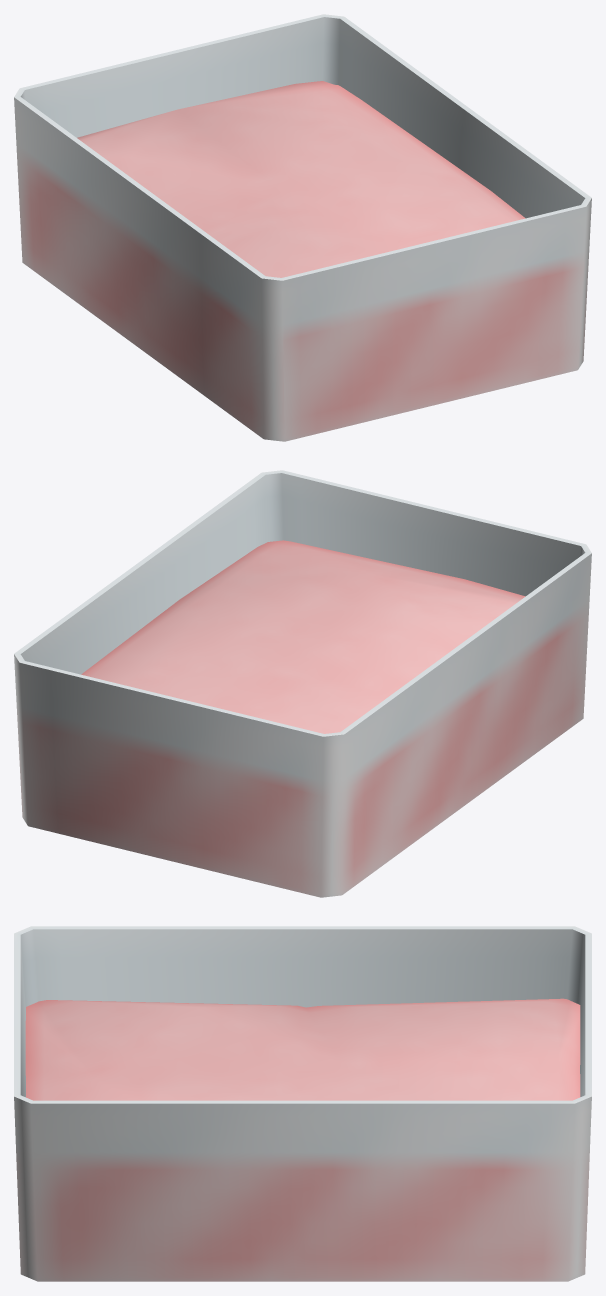
File: jsf_Ingredient_RawSugar_02.fbx
The picture shows the model from 3 angles, top to bottom: view 1: azimuth 30°, elevation 25°; view 2: azimuth 150°, elevation 25°; view 3: azimuth 270°, elevation 25°; orthographic projection. The views are drawn at different scales.
Parts seen in each view (by area): view 1: jsf_Ingredient_RawSugar_02; view 2: jsf_Ingredient_RawSugar_02; view 3: jsf_Ingredient_RawSugar_02.
Boxes of the visible parts, bbox=[...] form: jsf_Ingredient_RawSugar_02: bbox=[14, 14, 591, 441]; jsf_Ingredient_RawSugar_02: bbox=[14, 470, 591, 897]; jsf_Ingredient_RawSugar_02: bbox=[14, 926, 591, 1281].
Bounding box in the file's own units: 13.88 × 6.6 × 19.12.
